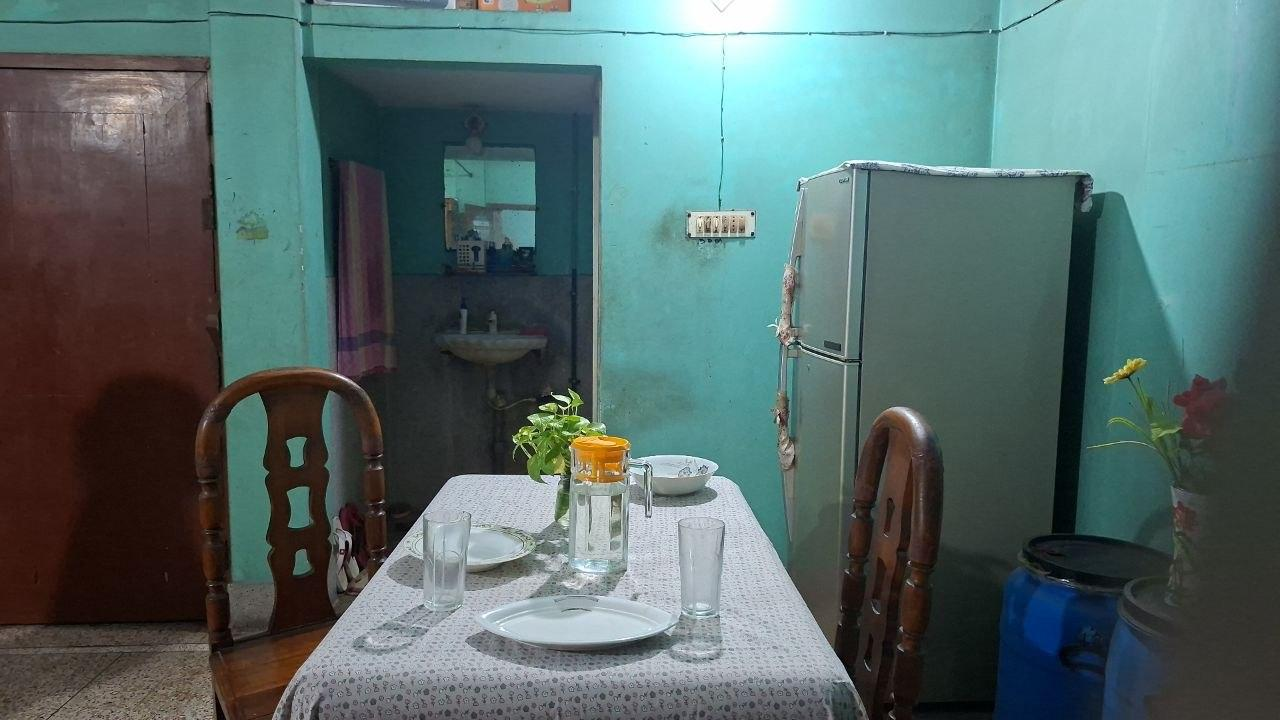Bowl: (624, 437, 726, 509)
Chair: (176, 364, 393, 720), (835, 402, 945, 720)
Door: (2, 54, 226, 628)
Glass: (414, 498, 475, 620), (680, 507, 730, 624)
Jug: (559, 429, 653, 590)
Light: (682, 0, 760, 36)
Plant: (502, 381, 613, 521)
Plate: (481, 597, 678, 659)
Table: (280, 465, 857, 720)
Towel: (333, 155, 404, 383)
Window: (444, 144, 540, 272)
